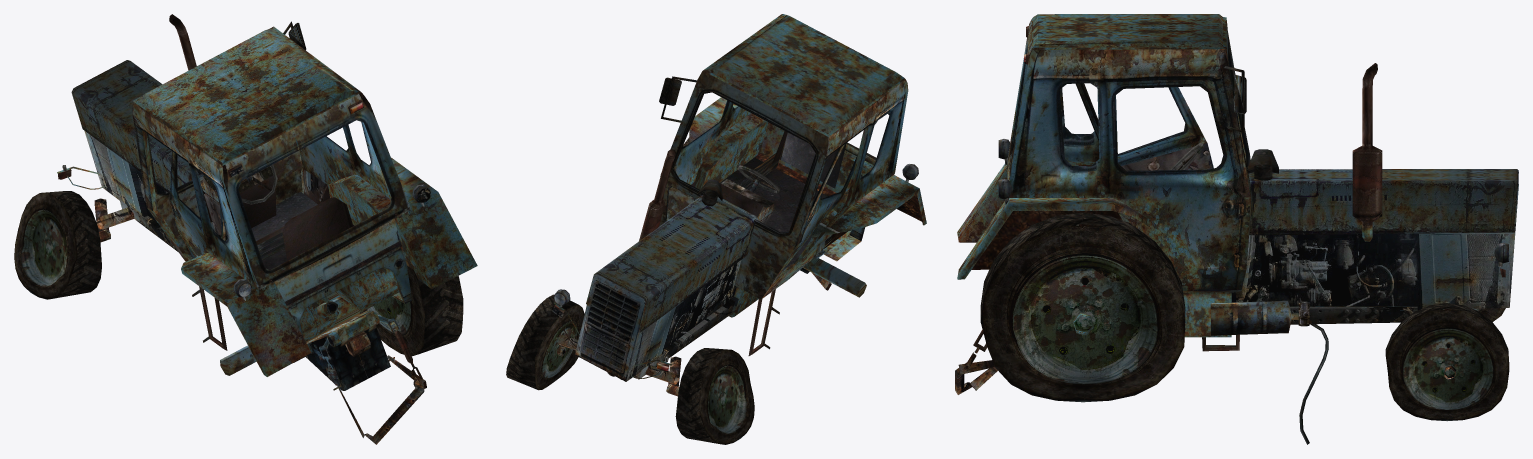
The model's file is tractor_mtz_02_lod1.fbx.
The picture shows the model from 3 angles, left to right: view 1: azimuth 30°, elevation 25°; view 2: azimuth 150°, elevation 25°; view 3: azimuth 270°, elevation 25°; orthographic projection. The views are drawn at different scales.
Visible parts, largest first — view 1: 1; view 2: 1; view 3: 1.
Boxes of the visible parts, box(x1,y1,x2,y2) form: 1: box(14, 14, 477, 444); 1: box(506, 14, 926, 444); 1: box(955, 14, 1518, 444).
Size of the model in its own units: 1.67 by 2.15 by 2.99.
